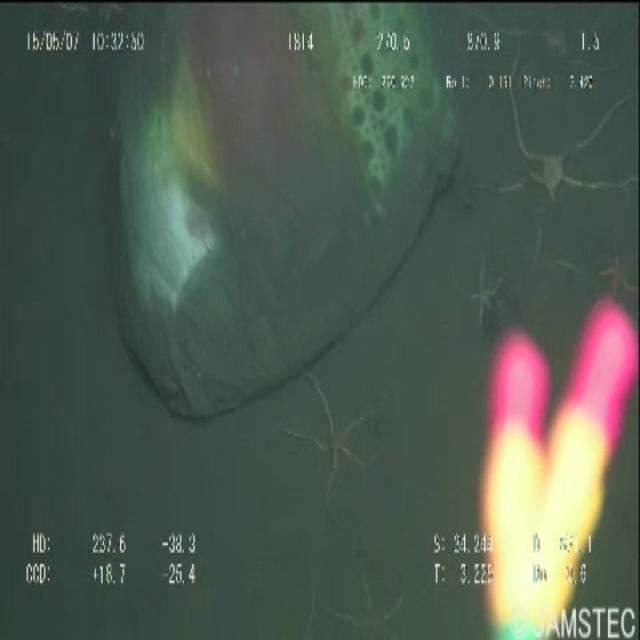Litter: (102, 12, 510, 442)
